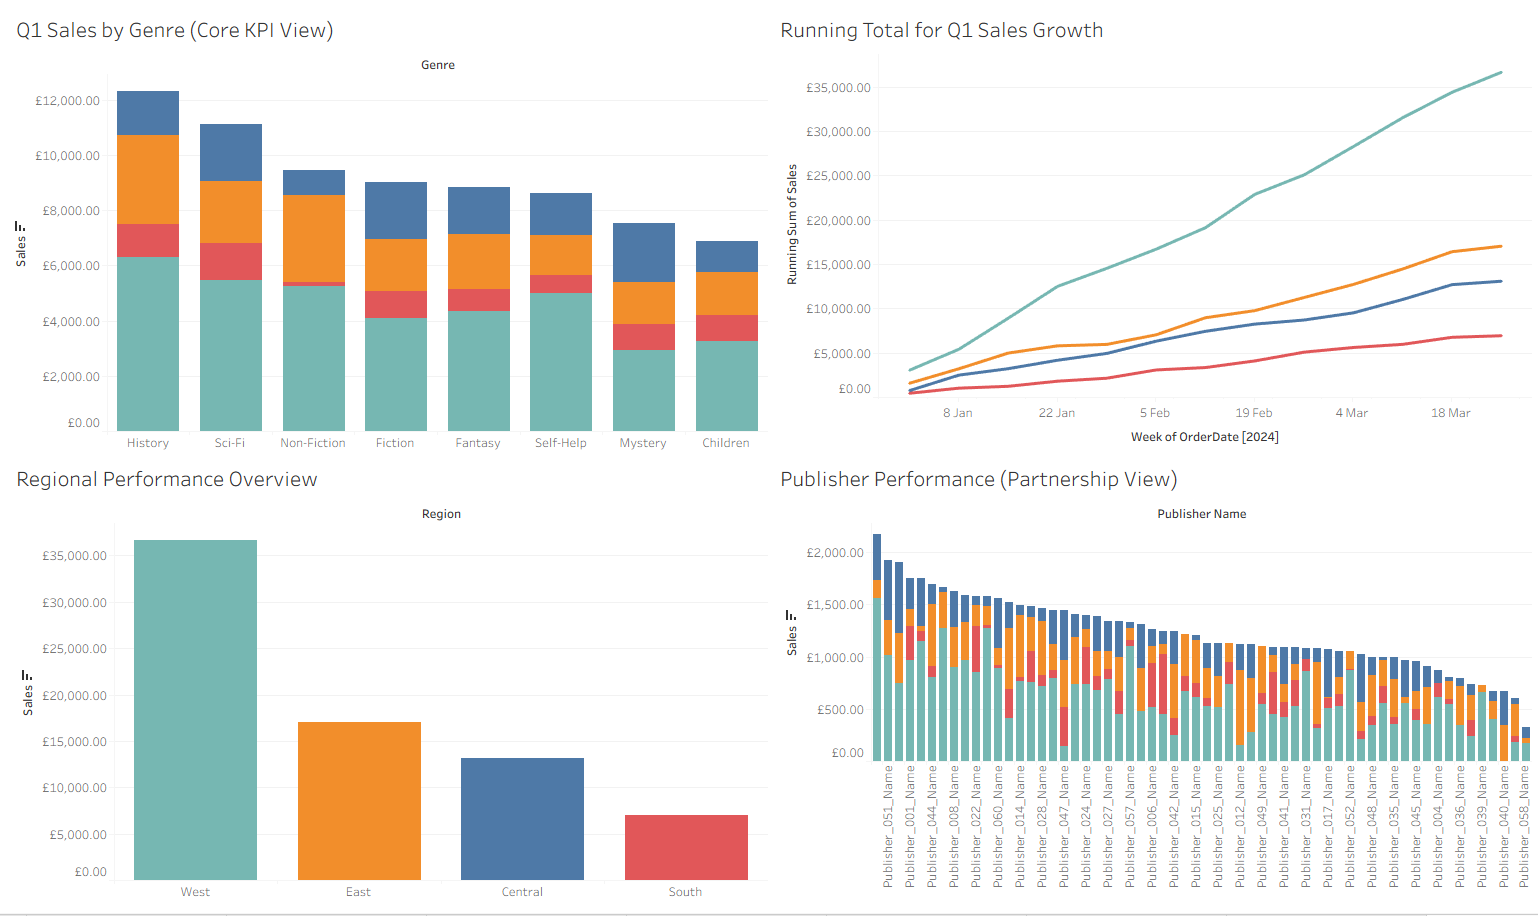

Layout of this report page (visuals, bound fields, positions):
{"tool":"tableau","page":{"name":"Final Executive Dashboard","canvas":[1000,1000],"units":"permille","ordinal":0},"visuals":[{"type":"worksheet","title":"Q1 Sales by Genre (Core KPI View)","mark":"Automatic","rows":["Sales"],"cols":["Genre"],"box":[4.7,8.8,448.2,491.2]},{"type":"worksheet","title":"Running Total for Q1 Sales Growth","mark":"Automatic","rows":["Sales"],"cols":["OrderDate"],"box":[452.9,8.8,448.5,491.2]},{"type":"filter","title":"Regional Performance Overview","param":"[federated.0v6n3b3030k7ju1g46tbx00z8nwv].[none:Genre:nk]","box":[901.4,8.8,93.9,222.1]},{"type":"filter","title":"Publisher Performance (Partnership View)","param":"[federated.0v6n3b3030k7ju1g46tbx00z8nwv].[none:Region:nk]","box":[901.4,230.8,93.9,139]},{"type":"filter","title":"Publisher Performance (Partnership View)","param":"[federated.0v6n3b3030k7ju1g46tbx00z8nwv].[none:PublisherName:nk]","box":[901.4,369.8,93.9,56.9]},{"type":"worksheet","title":"Regional Performance Overview","mark":"Automatic","rows":["Sales"],"cols":["Region"],"box":[4.7,499.9,448.2,491.3]},{"type":"worksheet","title":"Publisher Performance (Partnership View)","mark":"Automatic","rows":["Sales"],"cols":["PublisherName"],"box":[452.9,499.9,448.5,491.3]}]}

Visuals, with their boxes on the dashboard's canvas, which has no fixed pixel size, in thousandths of its width and height (x1, y1, x2, y2). These are canvas units, not pixel positions in the 1538x916 screenshot, which may show the page scaled, cropped or inside an application window:
"Q1 Sales by Genre (Core KPI View)" worksheet: (x1=5, y1=9, x2=453, y2=500)
"Running Total for Q1 Sales Growth" worksheet: (x1=453, y1=9, x2=901, y2=500)
"Regional Performance Overview" filter: (x1=901, y1=9, x2=995, y2=231)
"Publisher Performance (Partnership View)" filter: (x1=901, y1=231, x2=995, y2=370)
"Publisher Performance (Partnership View)" filter: (x1=901, y1=370, x2=995, y2=427)
"Regional Performance Overview" worksheet: (x1=5, y1=500, x2=453, y2=991)
"Publisher Performance (Partnership View)" worksheet: (x1=453, y1=500, x2=901, y2=991)
